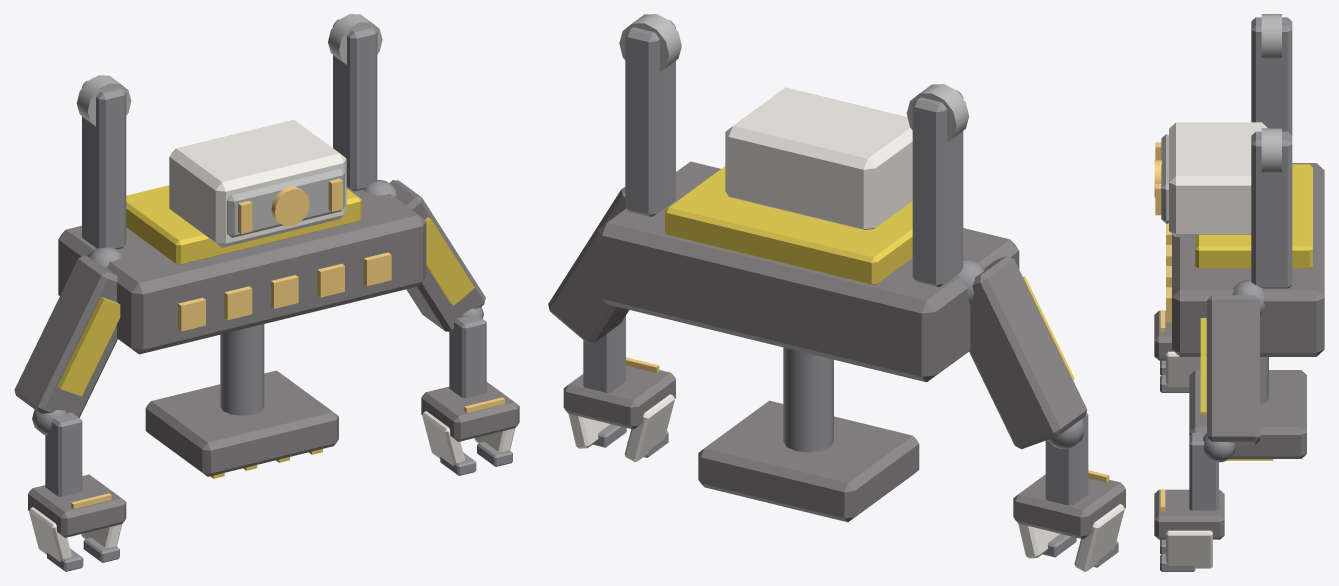
The model's file is sorter.glb.
The picture shows the model from 3 angles, left to right: view 1: azimuth 30°, elevation 25°; view 2: azimuth 150°, elevation 25°; view 3: azimuth 270°, elevation 25°; orthographic projection. The views are drawn at different scales.
Visible parts, largest first — view 1: iron, iron.001, enamel, iron.004, steel, steel.001, hazard, steel.002, iron.005, iron.003, dark.002, iron.002 (+14 smaller); view 2: iron, enamel, iron.001, hazard, iron.004, steel, steel.001, steel.002, iron.002, iron.003, iron.005, steel.010 (+7 smaller); view 3: iron, enamel, iron.002, steel.001, iron.001, hazard, steel, iron.003, steel.005, enamel.002, dark.001, dark (+9 smaller).
Part boxes in pixels (x1,y1,x2,y2): iron: (58,187,426,354); iron.001: (145,370,338,476); enamel: (169,119,346,247); iron.004: (14,255,117,417); steel: (82,80,126,249); steel.001: (333,19,377,191); hazard: (126,185,361,264); steel.002: (220,324,264,415); iron.005: (28,474,126,537); iron.003: (421,382,519,441); dark.002: (227,168,344,237); iron.002: (389,180,485,331); iron: (598,161,1019,382); enamel: (725,87,912,229); iron.001: (698,400,919,522); hazard: (665,166,912,284); iron.004: (969,256,1087,449); steel: (912,90,963,286); steel.001: (625,20,675,216); steel.002: (783,347,833,452); iron.002: (548,187,628,343); iron.003: (563,365,675,429); iron.005: (1013,474,1125,539); steel.010: (1045,412,1088,505); iron: (1172,163,1324,356); enamel: (1169,122,1267,237); iron.002: (1207,295,1259,445); steel.001: (1251,131,1292,288); iron.001: (1189,370,1306,458); hazard: (1195,164,1312,268); steel: (1251,17,1292,135); iron.003: (1154,489,1224,539); steel.005: (1189,433,1218,510); enamel.002: (1166,530,1212,568); dark.001: (1261,128,1281,173); dark: (1261,14,1281,59).
Size of the model in its own units: 8.55 by 7.45 by 2.9.
